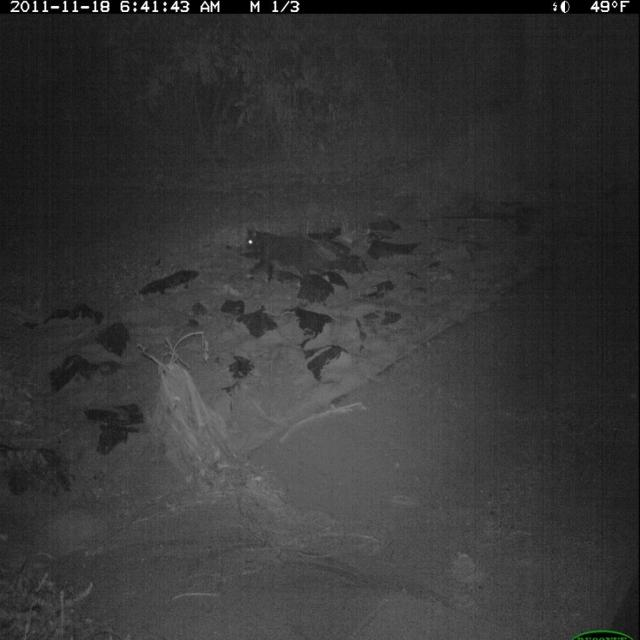cat: (242, 217, 339, 290)
